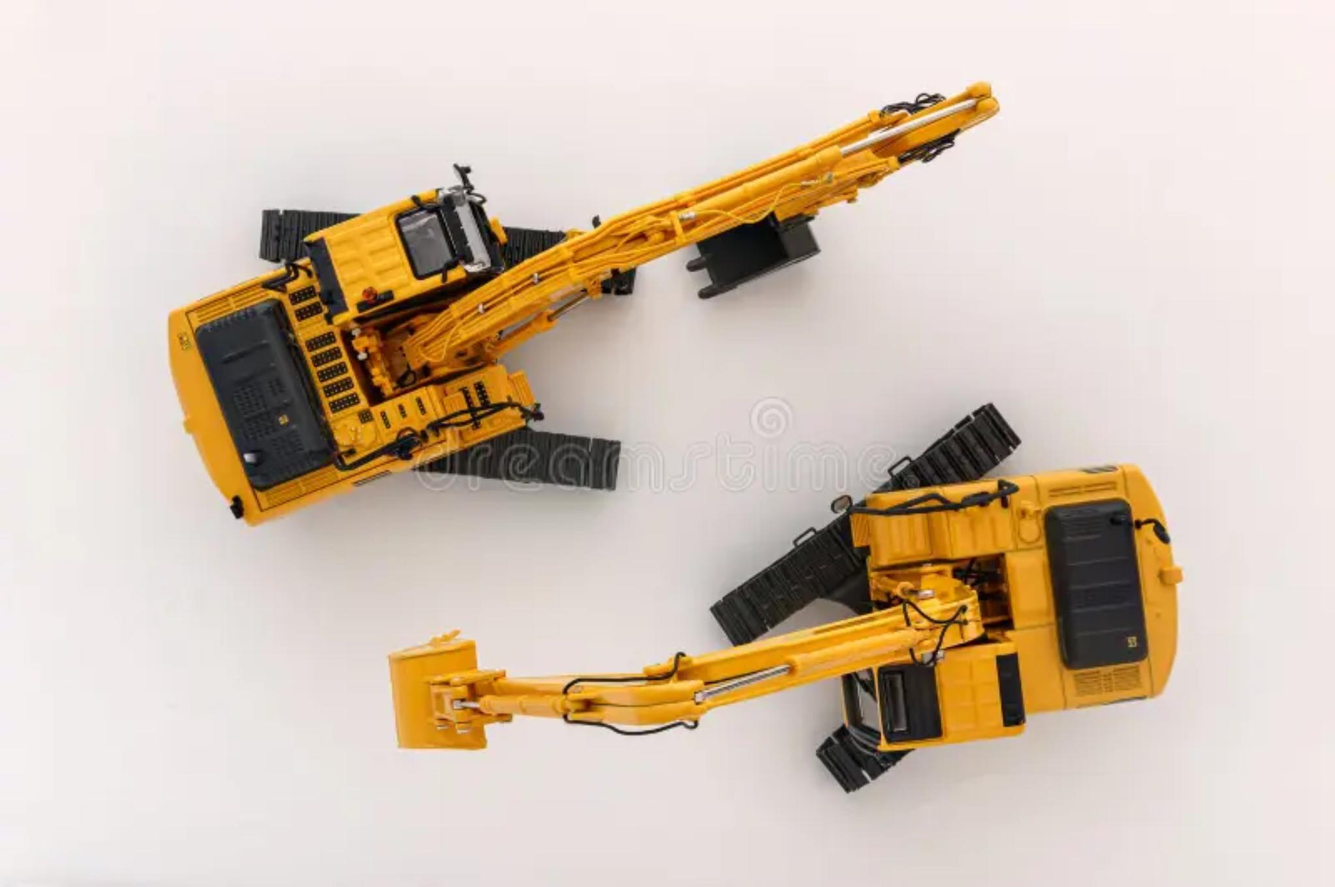excavator: (169, 82, 998, 524), (390, 465, 1181, 791)
